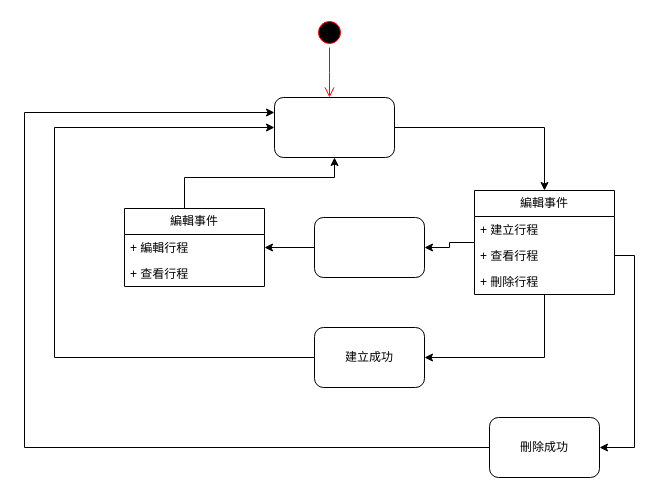
The diagram is 660 pixels wide and 495 high, and some of its shapes have lost their labels. Here are the shapes that lost their labels. From the top down, the box of each, then its label:
(274, 96, 394, 158): 閒置
(314, 216, 424, 278): 打開行程
